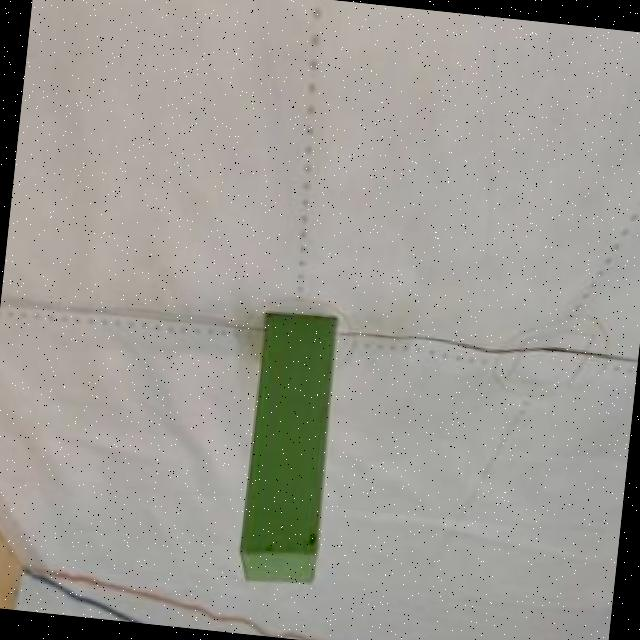greenbox: (230, 306, 344, 587)
